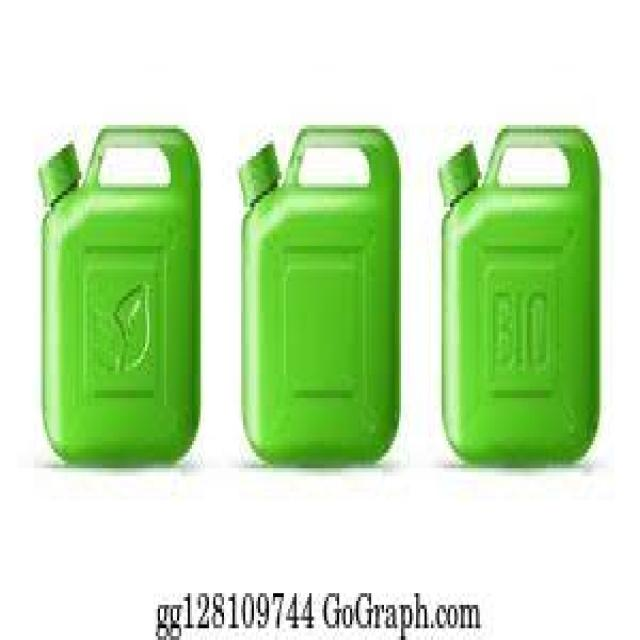gasolin: (32, 114, 212, 480), (439, 125, 606, 468), (237, 125, 401, 468)
